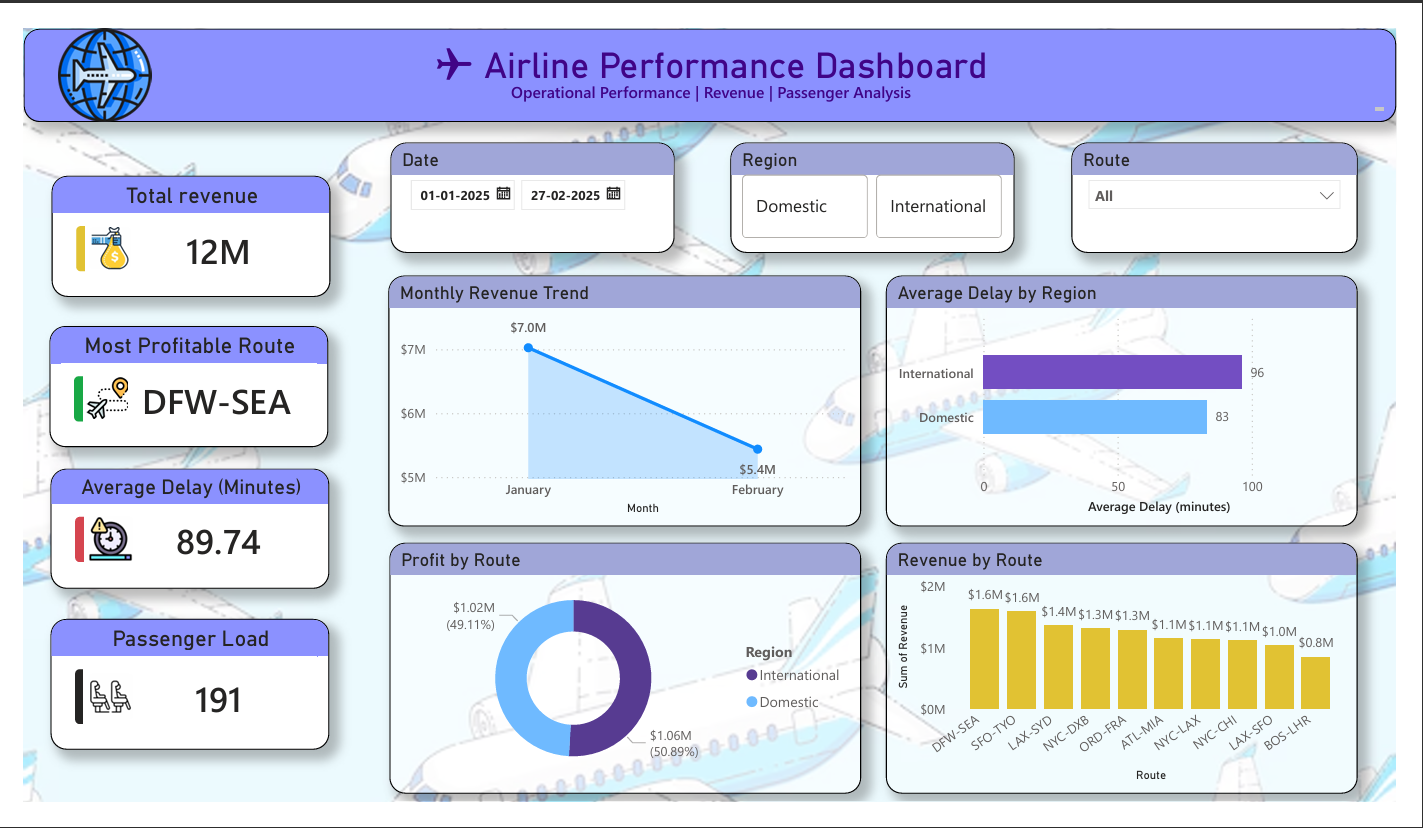

The dashboard page shown, as its layout file describes it:
{"tool":"powerbi","page":{"name":" Airline Performance Dashboard","canvas":[1280,720],"ordinal":0},"visuals":[{"type":"lineChart","title":"Monthly Revenue Trend","fields":{"Y":["Sum(AirlinePerformance.Revenue)"],"Category":["AirlinePerformance.Date.Variation.Date Hierarchy.Month"]},"box":[340,230,441.4,234.3],"z":0},{"type":"textbox","title":"✈ Airline Performance Dashboard","box":[0,0,1280,87.1],"z":1000},{"type":"cardVisual","title":"Total revenue","fields":{"Data":["AirlinePerformance.Total Revenue"]},"box":[25.7,137.1,260,112.9],"z":2000},{"type":"cardVisual","title":"Average Delay  (Minutes)","fields":{"Data":["AirlinePerformance.Average Delay"]},"box":[25.2,409.6,259.8,112.7],"z":3000},{"type":"cardVisual","title":"Passenger Load","fields":{"Data":["AirlinePerformance.Passenger Load"]},"box":[25.2,550.1,259.8,121.9],"z":4000},{"type":"cardVisual","title":"Most Profitable Route","fields":{"Data":["AirlinePerformance.Most Profitable Route"]},"box":[24.3,277.1,260,112.9],"z":5000},{"type":"donutChart","title":"Profit by Route","fields":{"Category":["AirlinePerformance.Region"],"Y":["Sum(AirlinePerformance.Profit)"]},"box":[341.4,478.6,440,234.3],"z":6000},{"type":"barChart","fields":{"Y":["AirlinePerformance.Average Delay"],"Category":["AirlinePerformance.Region"]},"box":[804.3,230,440,234.3],"z":7000},{"type":"columnChart","title":"Revenue by Route","fields":{"Category":["AirlinePerformance.Route"],"Y":["Sum(AirlinePerformance.Revenue)"]},"box":[804.3,478.6,440,234.3],"z":8000},{"type":"slicer","title":"Date","fields":{"Values":["AirlinePerformance.Date"]},"box":[342,106,265.1,103.4],"z":9000},{"type":"slicer","title":"Route","fields":{"Values":["AirlinePerformance.Route"]},"box":[977.1,105.7,267.1,102.9],"z":10000},{"type":"image","box":[0,0,150,87.1],"z":11000},{"type":"advancedSlicerVisual","title":"Region","fields":{"Values":["AirlinePerformance.Region"]},"box":[658.6,105.7,265.7,102.9],"z":12000}]}

Visuals, with their boxes on the page's 1280x720 design canvas (x1, y1, x2, y2). These are canvas units, not pixel positions in the 1423x828 screenshot, which may show the page scaled, cropped or inside an application window:
"Monthly Revenue Trend" lineChart: {"x1": 340, "y1": 230, "x2": 781, "y2": 464}
"✈ Airline Performance Dashboard" textbox: {"x1": 0, "y1": 0, "x2": 1280, "y2": 87}
"Total revenue" cardVisual: {"x1": 26, "y1": 137, "x2": 286, "y2": 250}
"Average Delay  (Minutes)" cardVisual: {"x1": 25, "y1": 410, "x2": 285, "y2": 522}
"Passenger Load" cardVisual: {"x1": 25, "y1": 550, "x2": 285, "y2": 672}
"Most Profitable Route" cardVisual: {"x1": 24, "y1": 277, "x2": 284, "y2": 390}
"Profit by Route" donutChart: {"x1": 341, "y1": 479, "x2": 781, "y2": 713}
barChart - AirlinePerformance.Average Delay x AirlinePerformance.Region: {"x1": 804, "y1": 230, "x2": 1244, "y2": 464}
"Revenue by Route" columnChart: {"x1": 804, "y1": 479, "x2": 1244, "y2": 713}
"Date" slicer: {"x1": 342, "y1": 106, "x2": 607, "y2": 209}
"Route" slicer: {"x1": 977, "y1": 106, "x2": 1244, "y2": 209}
image: {"x1": 0, "y1": 0, "x2": 150, "y2": 87}
"Region" advancedSlicerVisual: {"x1": 659, "y1": 106, "x2": 924, "y2": 209}
